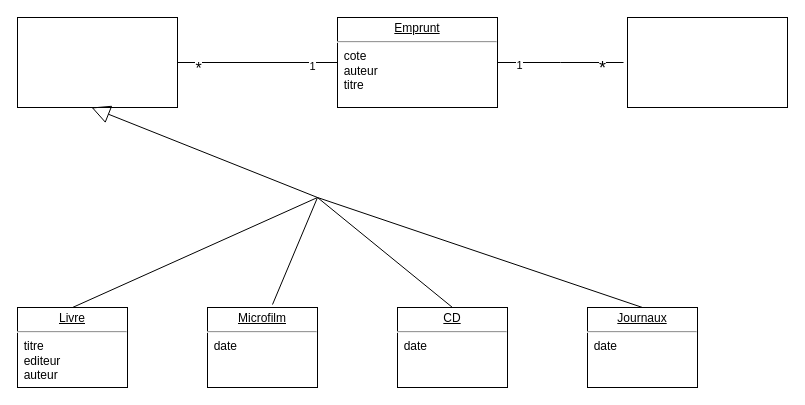
Some shapes in this 805 by 405 pixel diagram are drawn without their labels. Here are the shapes that lost their labels. From the top down, the centre of each, then its label:
At point (97, 62): "Document nom emprunt cote".
At point (707, 62): "Usager nom emprunt cote".
